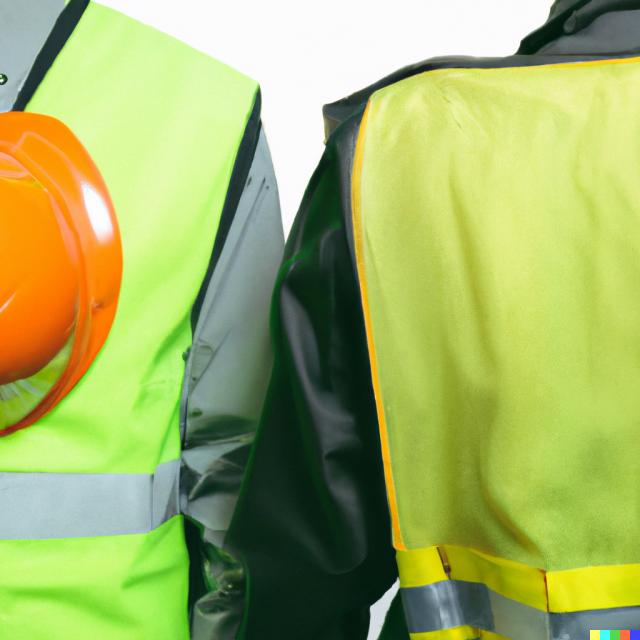Reflective-Jacket: (330, 23, 640, 640), (3, 0, 268, 640)
